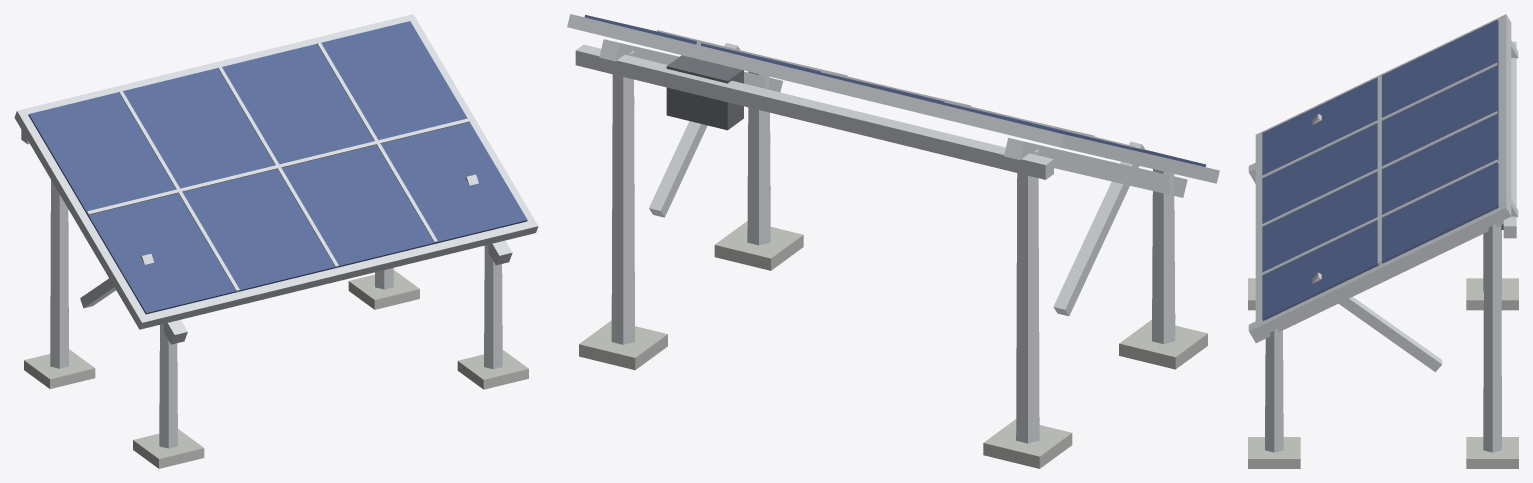
3 views of the same model, side by side, from view 1: azimuth 30°, elevation 25°; view 2: azimuth 150°, elevation 25°; view 3: azimuth 270°, elevation 25° (orthographic). The views are drawn at different scales.
Parts seen in each view (by area): view 1: solar-panel-module; view 2: solar-panel-module; view 3: solar-panel-module.
Part boxes in pixels (box(x1,y1,x2,y2)): solar-panel-module: box(14, 14, 538, 468); solar-panel-module: box(567, 14, 1219, 468); solar-panel-module: box(1248, 14, 1518, 468).
Bounding box in the file's own units: 2.1 × 1.35 × 1.24.
